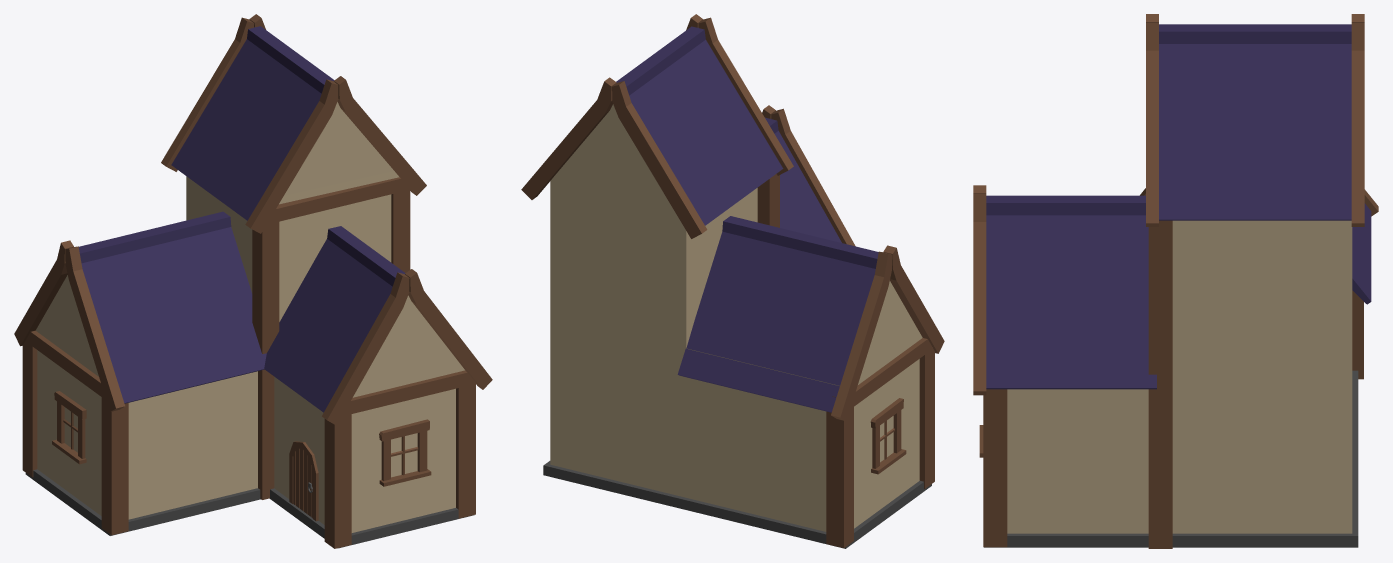
Rendered from House_FIX.fbx.
The picture shows the model from 3 angles, left to right: view 1: azimuth 30°, elevation 25°; view 2: azimuth 150°, elevation 25°; view 3: azimuth 270°, elevation 25°; orthographic projection. The views are drawn at different scales.
Parts seen in each view (by area): view 1: Base.001, Roof.002, Roof.001, Roof, RoofEdge.001, Cube.002, RoofEdge.002, RoofEdge, Cube.003, Cube.004, Cube.007, Cube.009 (+8 smaller); view 2: Base.001, Roof.002, Roof.001, RoofEdge.001, RoofEdge, Cube.001, Roof, Cube.004, RoofEdge.002, Window.001, Cube.006, Cube.002; view 3: Base.001, Roof.001, Roof, Cube.011, RoofEdge.001, Cube.007, RoofEdge.002, Roof.002, Cube.001.
Boxes of the visible parts, x1,y1,x2,y2 form: Base.001: [25, 102, 474, 548]; Roof.002: [78, 211, 266, 403]; Roof.001: [171, 26, 334, 220]; Roof: [264, 226, 405, 412]; RoofEdge.001: [161, 14, 426, 233]; Cube.002: [252, 222, 279, 499]; RoofEdge.002: [322, 269, 492, 425]; RoofEdge: [14, 240, 124, 411]; Cube.003: [324, 414, 351, 548]; Cube.004: [101, 397, 128, 535]; Cube.007: [456, 384, 475, 518]; Cube.009: [267, 177, 405, 224]; Base.001: [543, 104, 931, 548]; Roof.002: [677, 216, 878, 412]; Roof.001: [616, 26, 783, 225]; RoofEdge.001: [521, 14, 793, 238]; RoofEdge: [831, 245, 944, 421]; Cube.001: [826, 407, 853, 548]; Roof: [765, 117, 841, 242]; Cube.004: [919, 347, 934, 488]; RoofEdge.002: [762, 105, 855, 246]; Window.001: [870, 398, 906, 474]; Cube.006: [832, 338, 931, 408]; Cube.002: [757, 174, 779, 227]; Base.001: [984, 220, 1358, 547]; Roof.001: [1159, 24, 1351, 220]; Roof: [986, 195, 1156, 389]; Cube.011: [1148, 220, 1172, 548]; RoofEdge.001: [1146, 14, 1364, 226]; Cube.007: [983, 389, 1007, 547]; RoofEdge.002: [973, 185, 986, 395]; Roof.002: [1352, 203, 1371, 304]; Cube.001: [1352, 290, 1363, 379].
Size of the model in its own units: 569 by 688 by 518.
